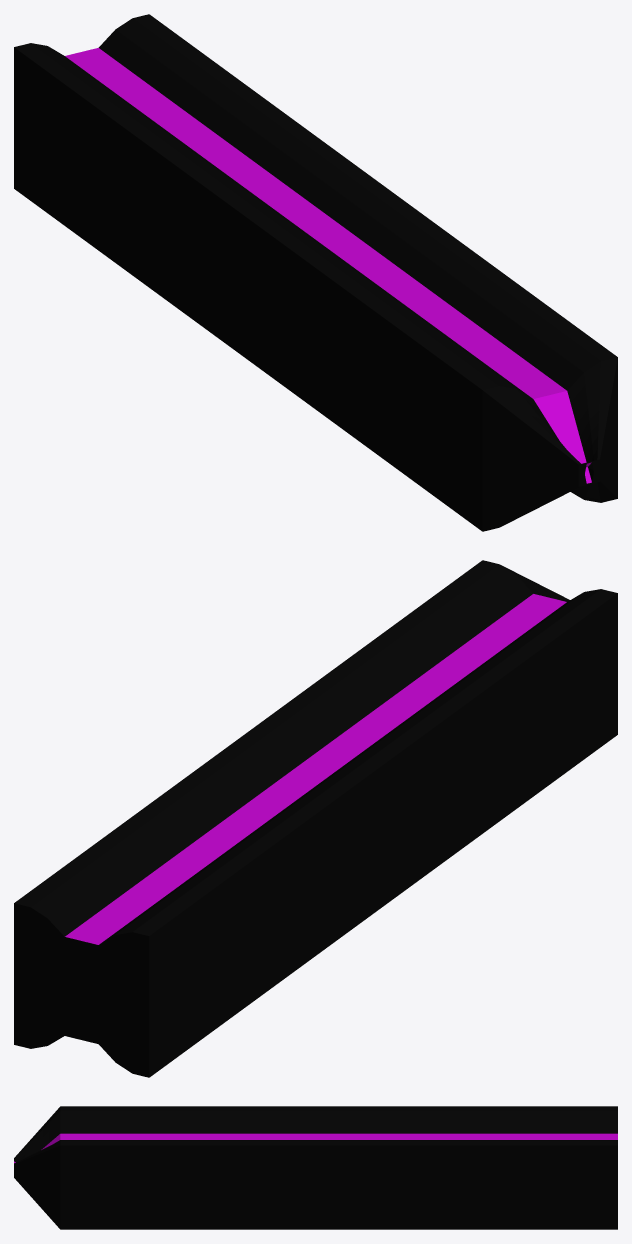
Rendered from Obstacle1.fbx.
3 renders of one model, top to bottom at view 1: azimuth 30°, elevation 25°; view 2: azimuth 150°, elevation 25°; view 3: azimuth 270°, elevation 25°, orthographic. The views are drawn at different scales.
Parts seen in each view (by area): view 1: Cube; view 2: Cube; view 3: Cube.
Boxes of the visible parts, left/top/right/bottom form: Cube: left=14, top=14, right=617, bottom=531; Cube: left=14, top=560, right=617, bottom=1077; Cube: left=14, top=1106, right=617, bottom=1229.
Size of the model in its own units: 200 by 200 by 1300.
